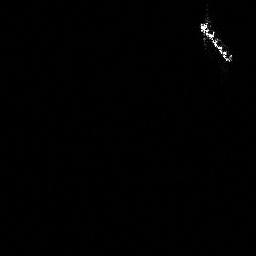ship: (200, 17, 235, 64)
